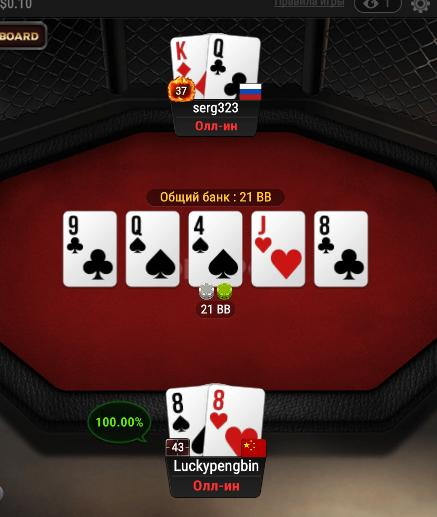4s: (188, 211, 244, 285)
8c: (314, 211, 367, 287)
8h: (206, 382, 265, 454)
8s: (164, 383, 206, 455)
9c: (64, 211, 117, 286)
Jh: (251, 211, 304, 286)
Kd: (171, 34, 207, 100)
Qc: (207, 31, 261, 101)
Qs: (126, 211, 177, 285)
